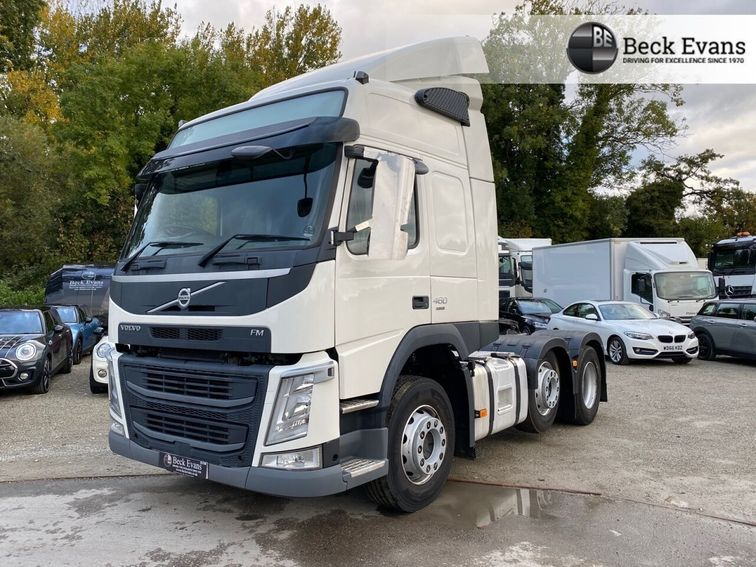Car: (544, 299, 698, 366), (0, 308, 71, 391)
Semi: (104, 36, 607, 516), (531, 239, 719, 330)
